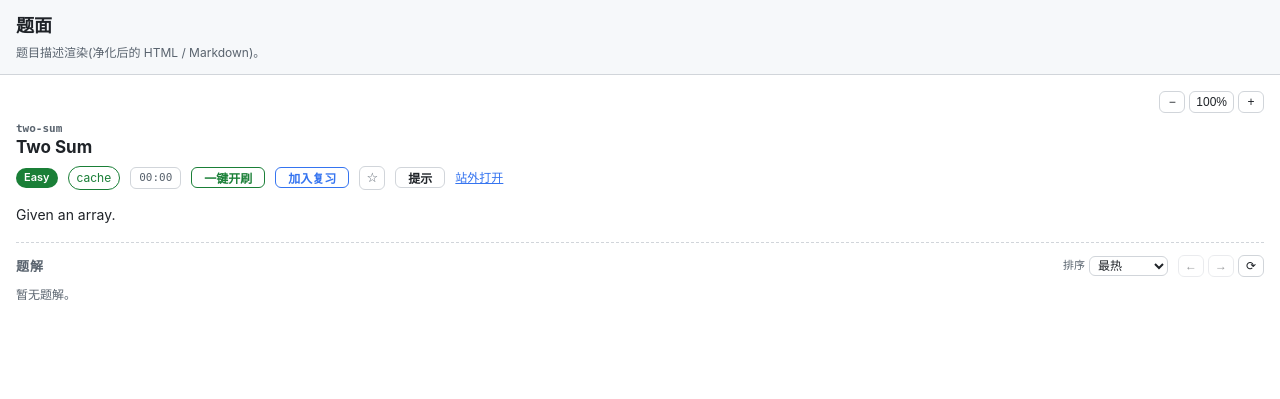
Test: problem-view hints (WP73) › lazy-loads hints on first click only, rendering one collapsed details per hint with entities decoded
Click the button with class "statement-header__hints".
click(420, 178)  # box [395,167,445,188]
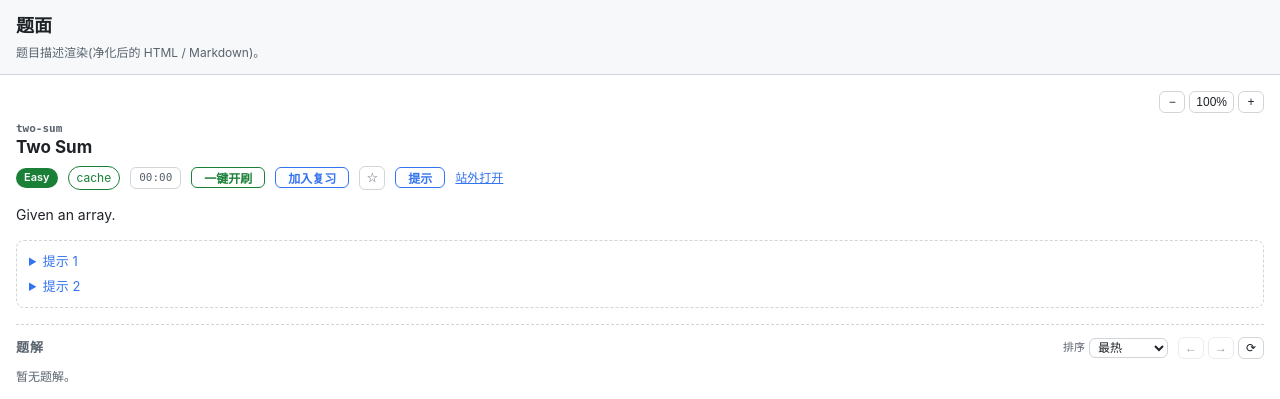
Result: the number of elements with class "hints__item" is 2 at [43,253,78,269]; [43,278,80,294]
Result: the heading with class "hints__summary" reads "提示 1" at [43,253,78,269]
Result: the heading with class "hints__summary" reads "提示 2" at [43,278,80,294]
